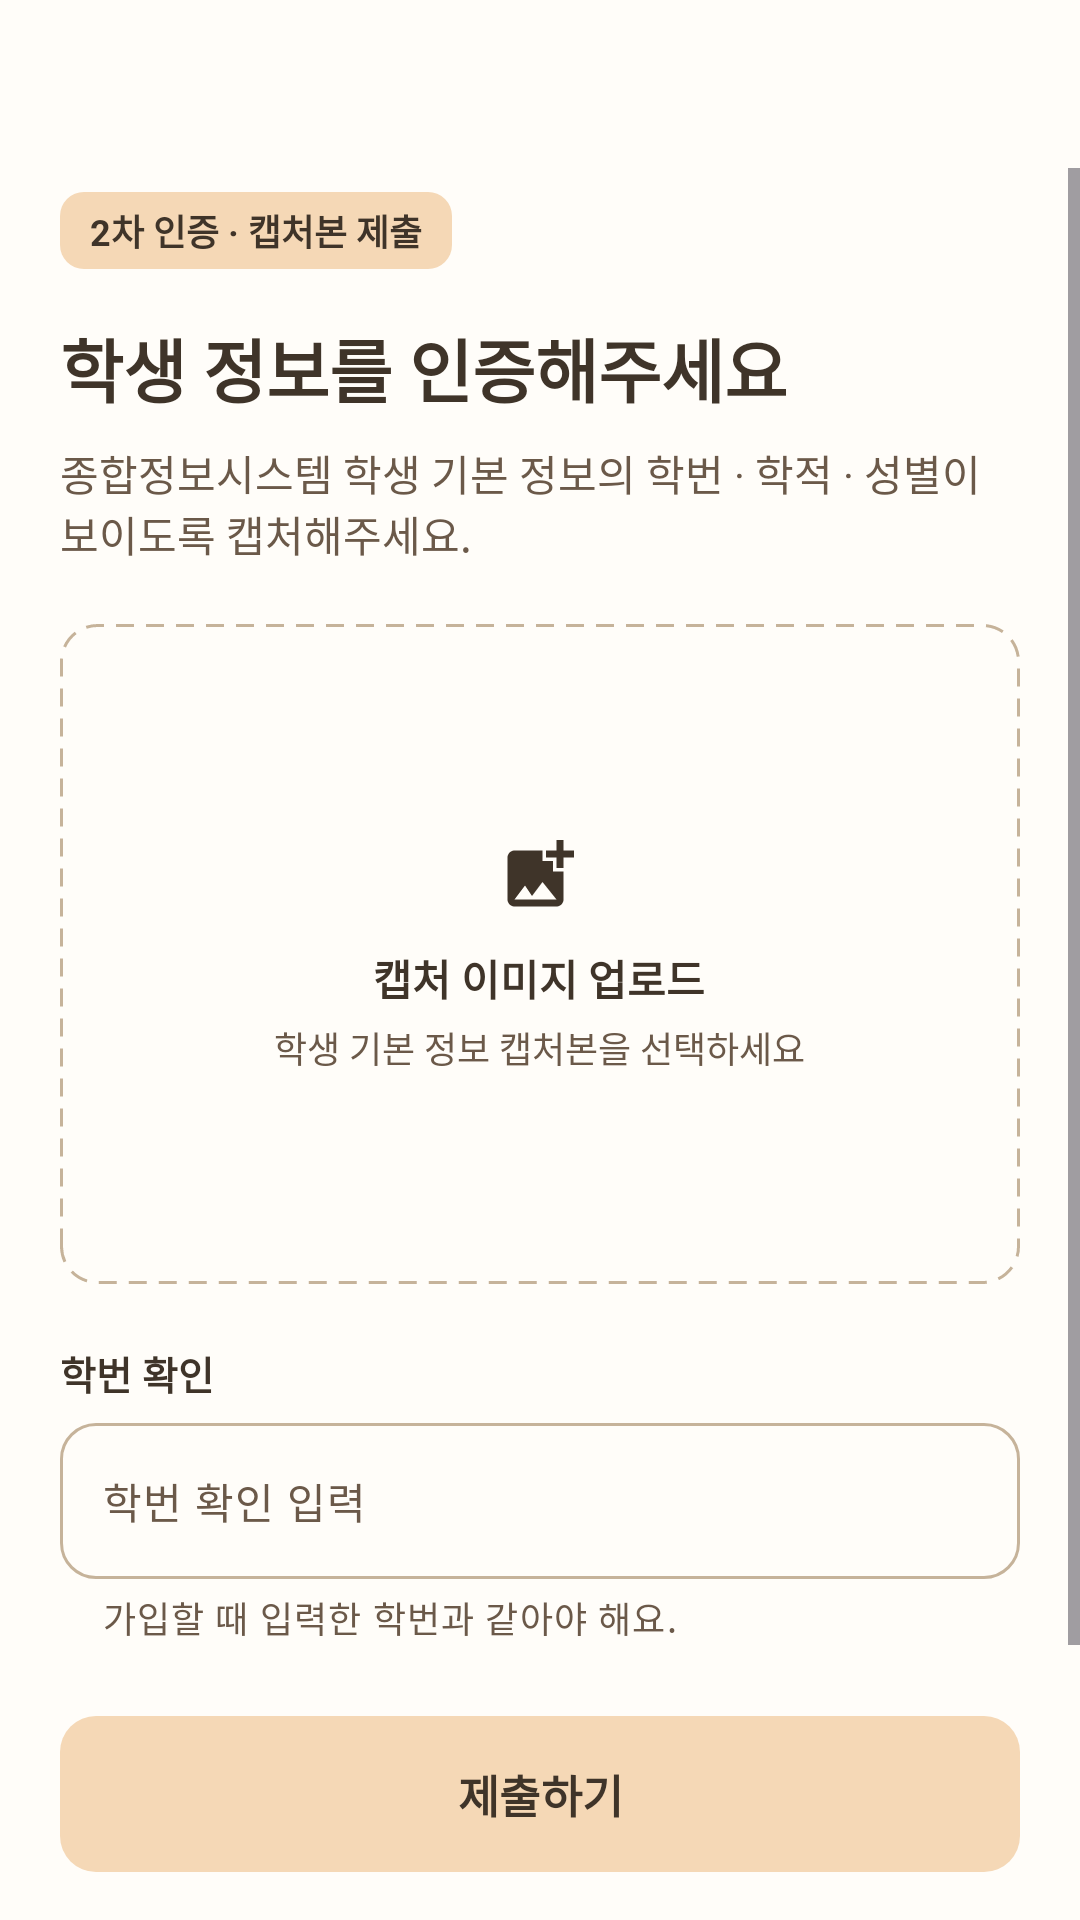

Point at icon controls on the screen. Image size 1080 × 1920, points as (x=x, y=y).
add: (x=540, y=873)
